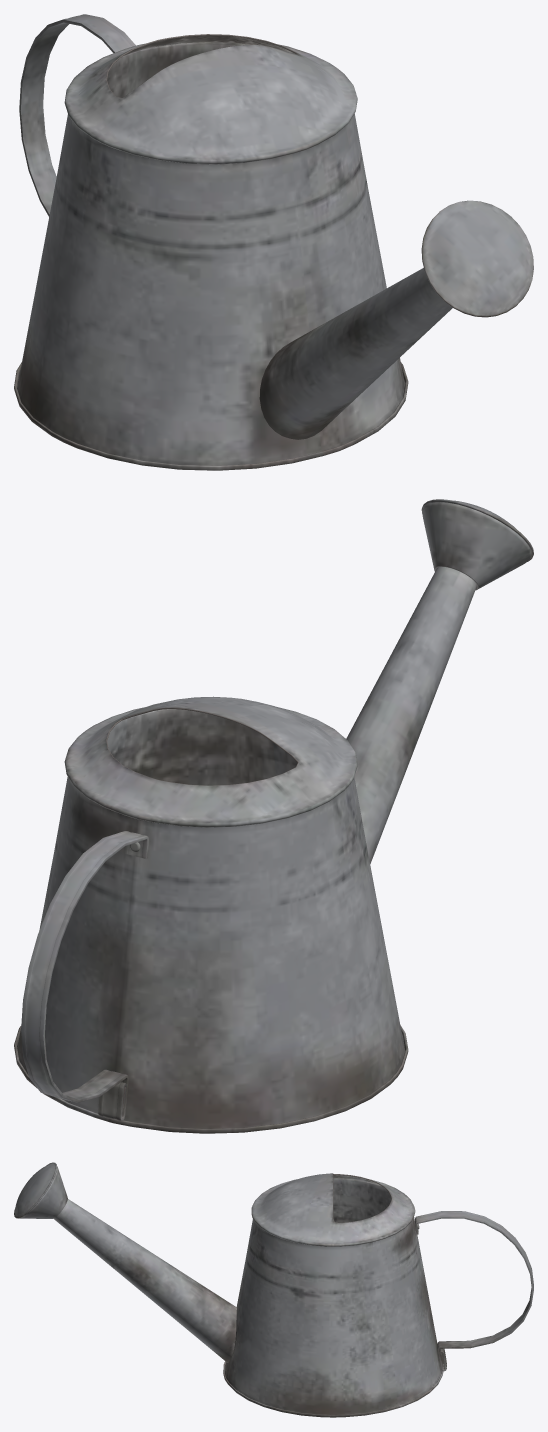
The model's file is watering_can_metal_01.glb.
The picture shows the model from 3 angles, top to bottom: view 1: azimuth 30°, elevation 25°; view 2: azimuth 150°, elevation 25°; view 3: azimuth 270°, elevation 25°; orthographic projection. The views are drawn at different scales.
Visible parts, largest first — view 1: watering_can_metal_01; view 2: watering_can_metal_01; view 3: watering_can_metal_01.
Part boxes in pixels (x1=…): watering_can_metal_01: x1=14, y1=14, x2=533, y2=470; watering_can_metal_01: x1=14, y1=499, x2=533, y2=1133; watering_can_metal_01: x1=14, y1=1162, x2=533, y2=1417.
Bounding box in the file's own units: 0.191 × 0.1968 × 0.4523.
Materials: 1 (1 with a texture image).
